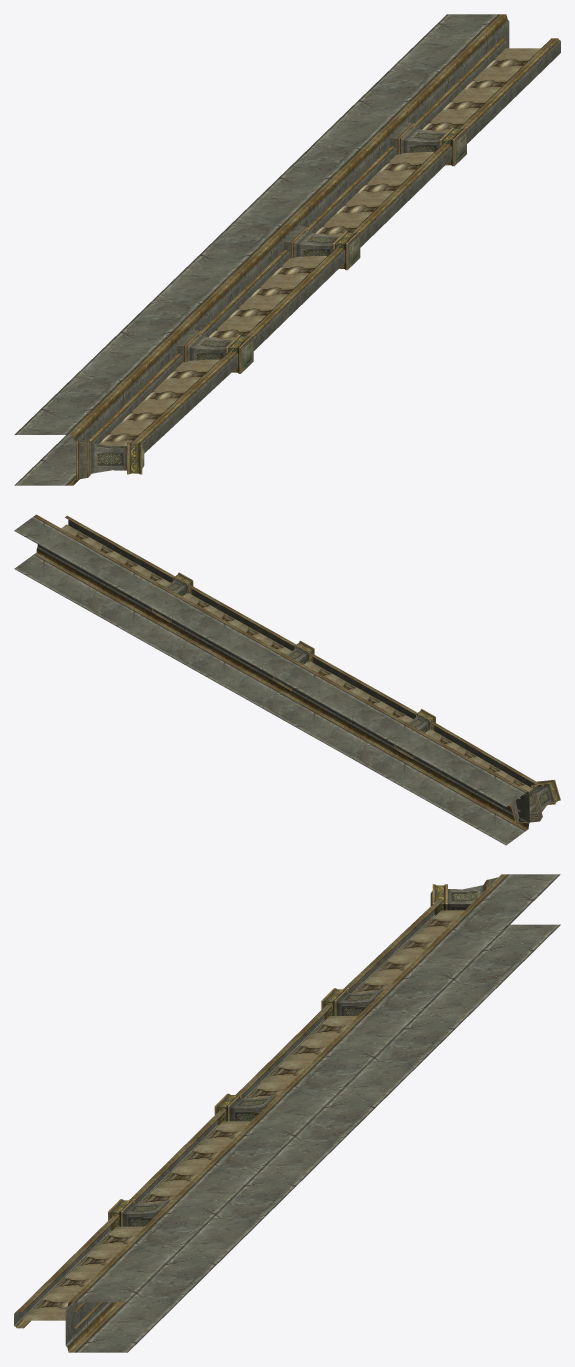
The model's file is zhucheng_yewai_291_langan_e.obj.
3 views of the same model, one above another, from view 1: azimuth 90°, elevation 25°; view 2: azimuth 150°, elevation 25°; view 3: azimuth 270°, elevation 25° (orthographic). The views are drawn at different scales.
Parts seen in each view (by area): view 1: zhucheng_yewai_291_langan_a07; view 2: zhucheng_yewai_291_langan_a07; view 3: zhucheng_yewai_291_langan_a07.
Boxes of the visible parts, x1,y1,x2,y2 form: zhucheng_yewai_291_langan_a07: (14, 14, 560, 485); zhucheng_yewai_291_langan_a07: (14, 514, 560, 845); zhucheng_yewai_291_langan_a07: (14, 874, 560, 1352).
Bounding box in the file's own units: 810 × 47.3 × 434.
2 materials, 2 textured.
